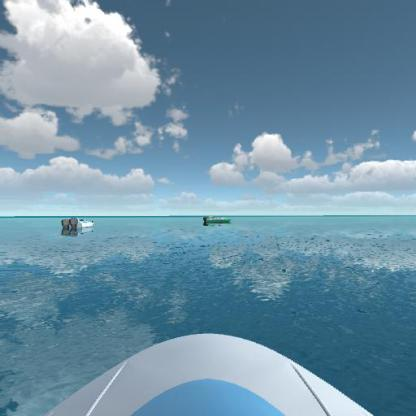usv0: (202, 213, 235, 229)
usv1: (58, 214, 99, 234)
